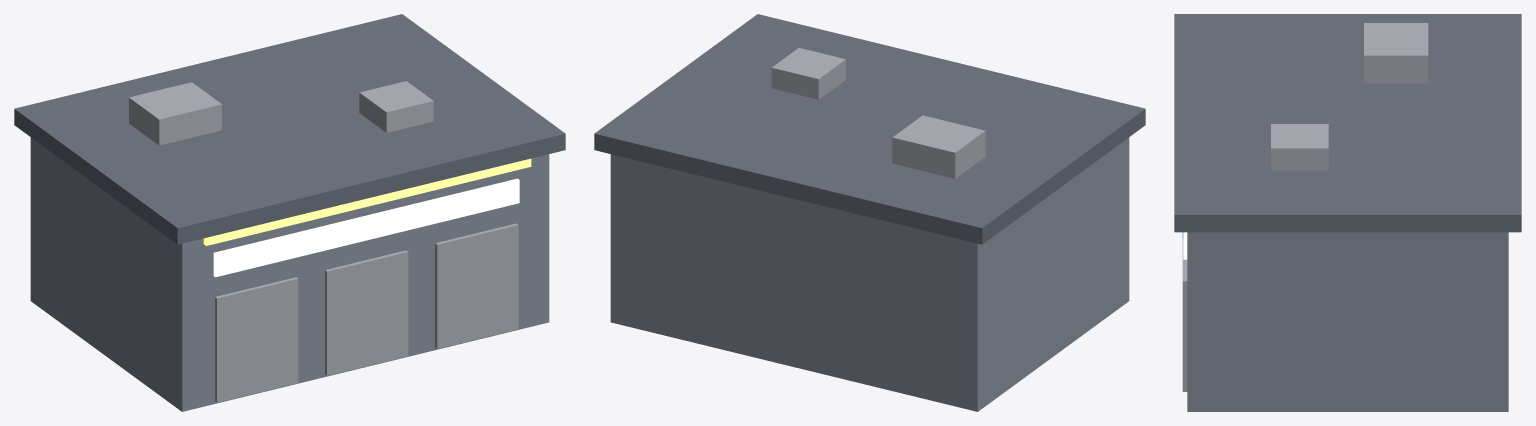
The model's file is warehouse.glb.
3 views of the same model, side by side, from view 1: azimuth 30°, elevation 25°; view 2: azimuth 150°, elevation 25°; view 3: azimuth 270°, elevation 25° (orthographic). The views are drawn at different scales.
Visible parts, largest first — view 1: RoofSlab, MainHall, BayDoor_4.2, BayDoor_0.0, BayDoor_-4.2, OfficeStrip, RoofAC_1, SignBar, RoofAC_2; view 2: MainHall, RoofSlab, RoofAC_1, RoofAC_2; view 3: RoofSlab, MainHall, RoofAC_1, RoofAC_2, BayDoor_4.2.
Part boxes in pixels (x1,y1,x2,y2): RoofSlab: [14, 14, 565, 244]; MainHall: [30, 137, 549, 411]; BayDoor_4.2: [435, 223, 518, 348]; BayDoor_0.0: [325, 250, 408, 375]; BayDoor_-4.2: [215, 277, 298, 402]; OfficeStrip: [213, 178, 519, 277]; RoofAC_1: [129, 82, 221, 145]; SignBar: [203, 158, 531, 245]; RoofAC_2: [359, 81, 433, 132]; MainHall: [610, 137, 1129, 411]; RoofSlab: [594, 14, 1145, 244]; RoofAC_1: [892, 115, 985, 178]; RoofAC_2: [771, 48, 845, 99]; RoofSlab: [1174, 14, 1521, 232]; MainHall: [1187, 232, 1508, 411]; RoofAC_1: [1364, 23, 1428, 83]; RoofAC_2: [1271, 124, 1328, 170]; BayDoor_4.2: [1182, 239, 1187, 391].
Bounding box in the file's own units: 14.8 × 7.9 × 10.8.
